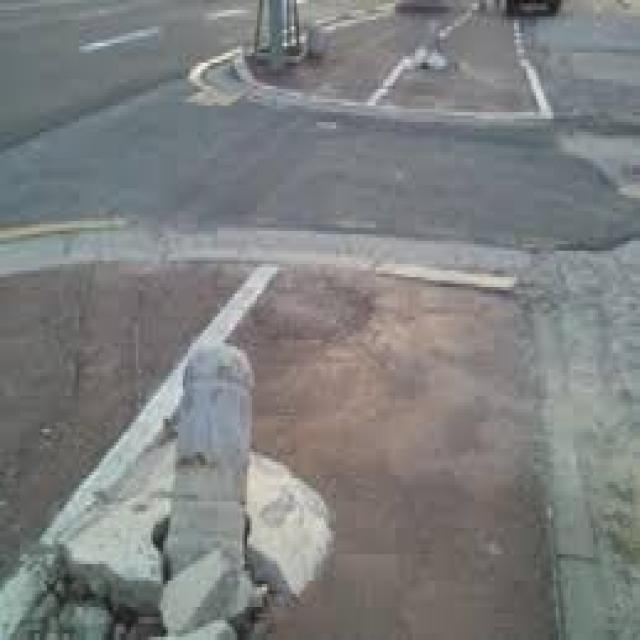bollard: (161, 309, 267, 592)
